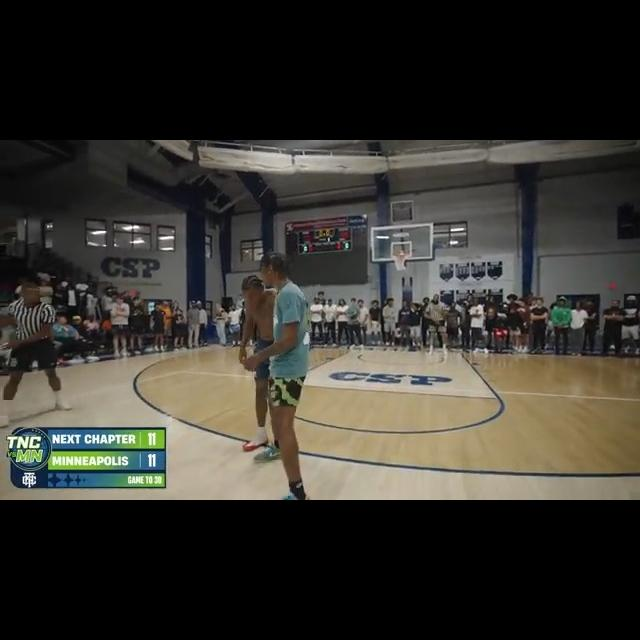hoop: (392, 250, 408, 269)
